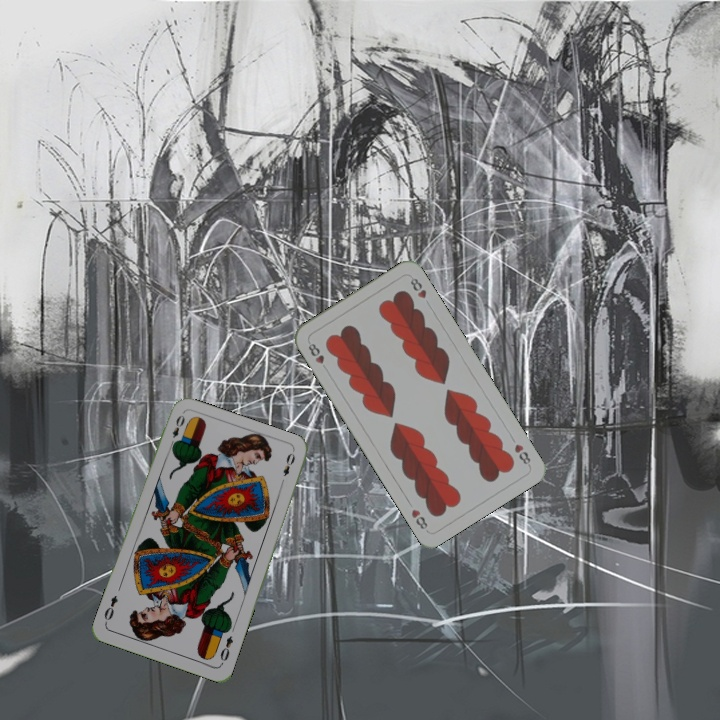EO: (166, 411, 187, 450), (216, 632, 236, 667)
H8: (304, 339, 331, 374), (510, 440, 533, 469)
